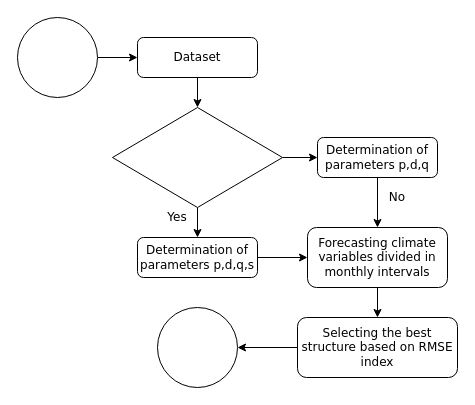
This 475x405 diagram has some shape labels left out. Each missing label, with the centre of its shape:
END: the point at 197,347
Is a seasonal model required?: the point at 197,157
START: the point at 57,57
